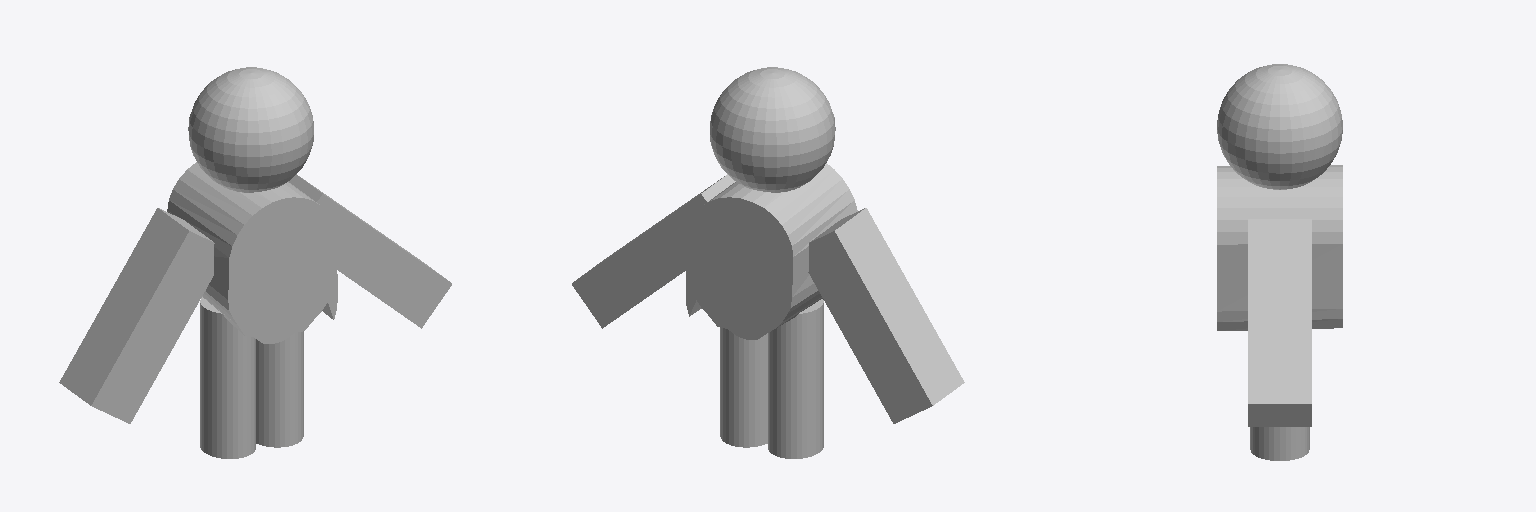
The model's file is Figurine33.obj.
3 views of the same model, side by side, from view 1: azimuth 30°, elevation 25°; view 2: azimuth 150°, elevation 25°; view 3: azimuth 270°, elevation 25° (orthographic).
Parts seen in each view (by area): view 1: Cylinder; view 2: Cylinder; view 3: Cylinder.
Part boxes in pixels (x1,y1,x2,y2): Cylinder: (59, 67, 451, 458); Cylinder: (572, 67, 964, 458); Cylinder: (1217, 64, 1342, 460).
Bounding box in the file's own units: 6.6 × 6.42 × 2.